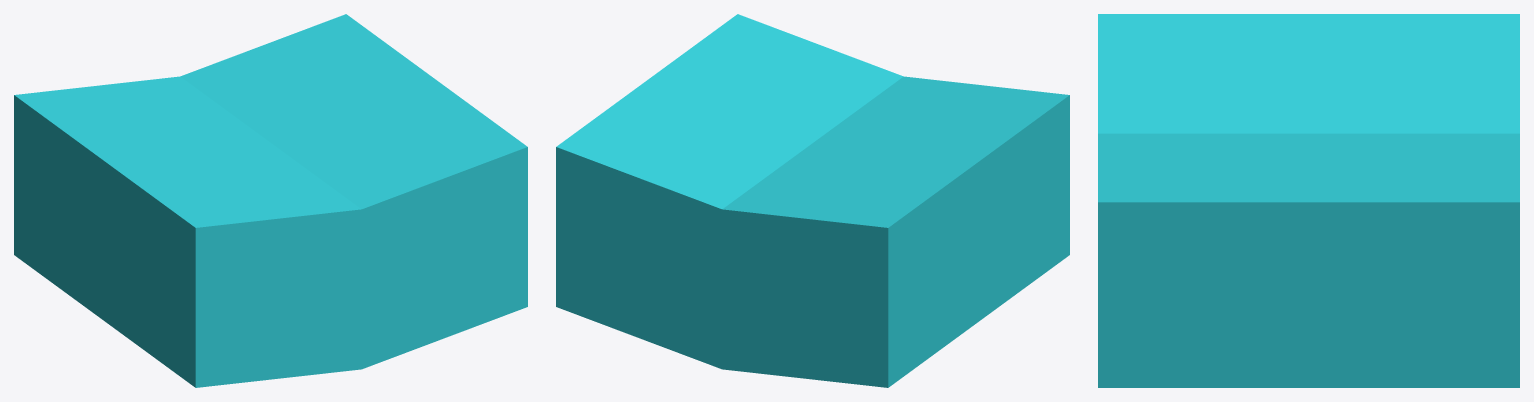
File: Blocker Middle.fbx
3 renders of one model, left to right at view 1: azimuth 30°, elevation 25°; view 2: azimuth 150°, elevation 25°; view 3: azimuth 270°, elevation 25°, orthographic. The views are drawn at different scales.
Parts seen in each view (by area): view 1: Blocker Middle; view 2: Blocker Middle; view 3: Blocker Middle.
Part boxes in pixels (x1=…): Blocker Middle: x1=14, y1=14, x2=527, y2=387; Blocker Middle: x1=556, y1=14, x2=1069, y2=387; Blocker Middle: x1=1098, y1=14, x2=1519, y2=387.
Bounding box in the file's own units: 53.92 × 28.23 × 51.06.
